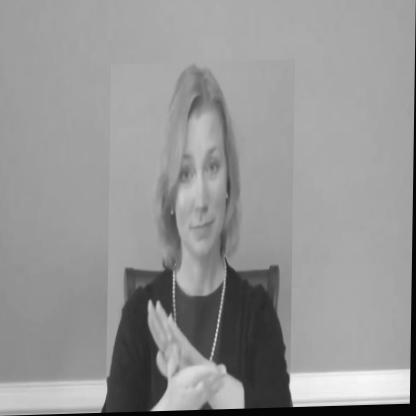NiceToMeetYou: (107, 61, 295, 413)
